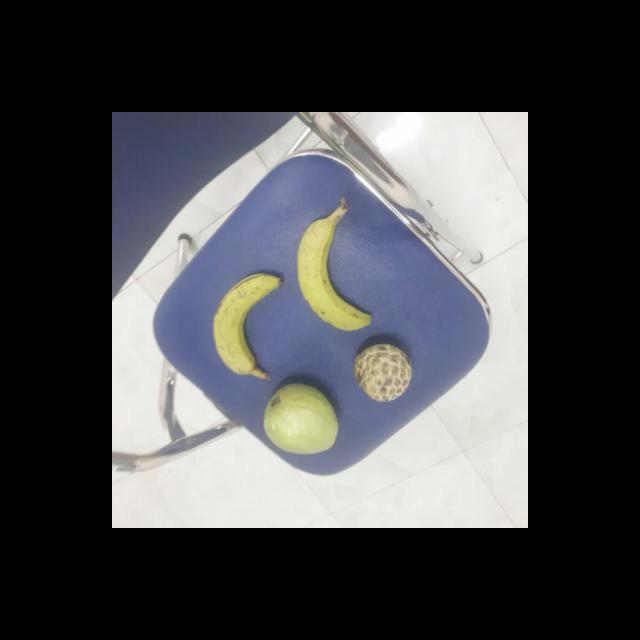Sakya fruit: (355, 343, 415, 402)
banana: (296, 215, 375, 332), (212, 276, 288, 380)
guava: (262, 381, 341, 457)
